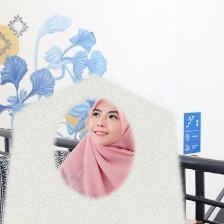Mukena: (0, 72, 192, 224)
